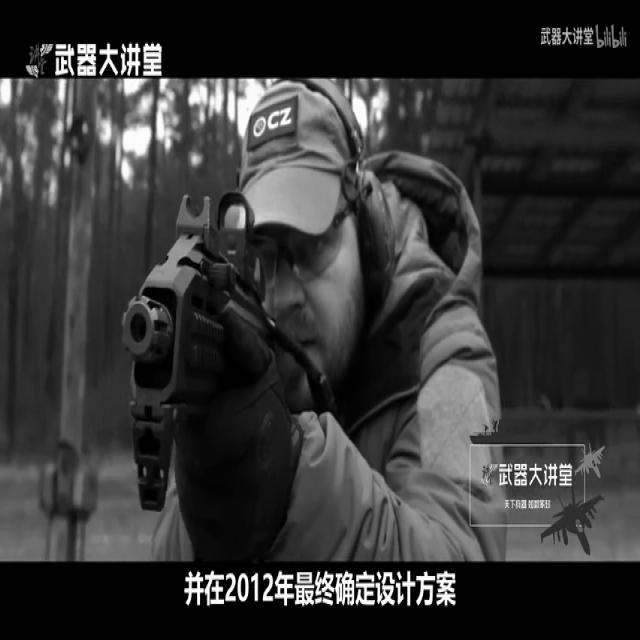Sub-machine-gun: (120, 116, 276, 508)
